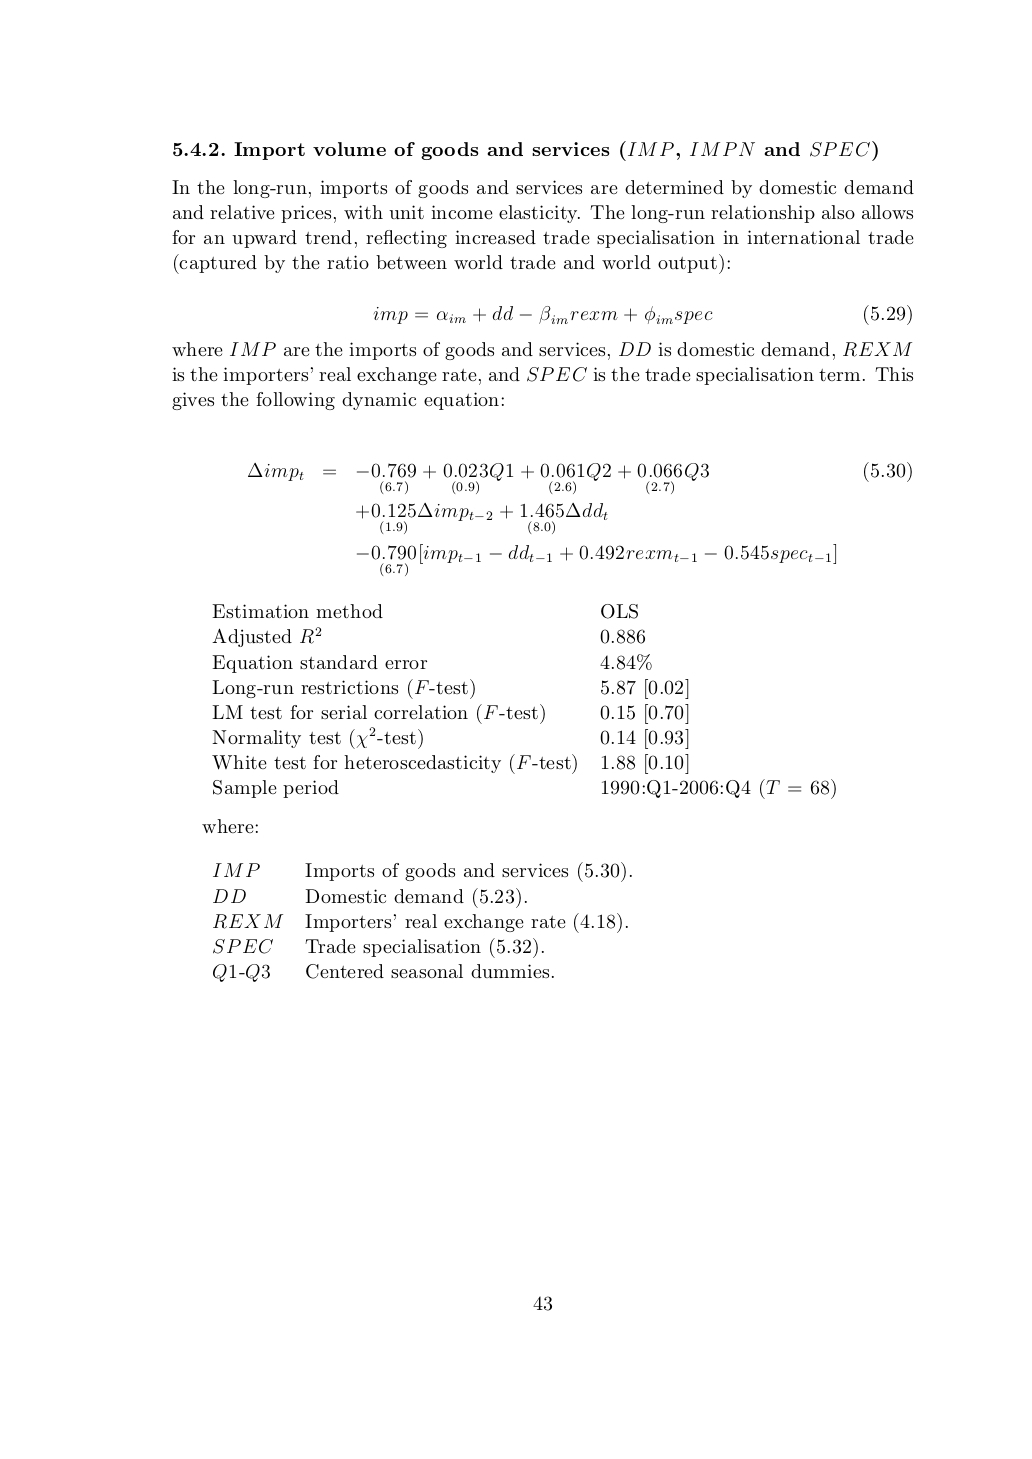Table: (212, 604, 835, 798)
formula: (248, 461, 911, 495), (356, 543, 837, 577), (373, 304, 911, 325), (356, 501, 606, 535)
